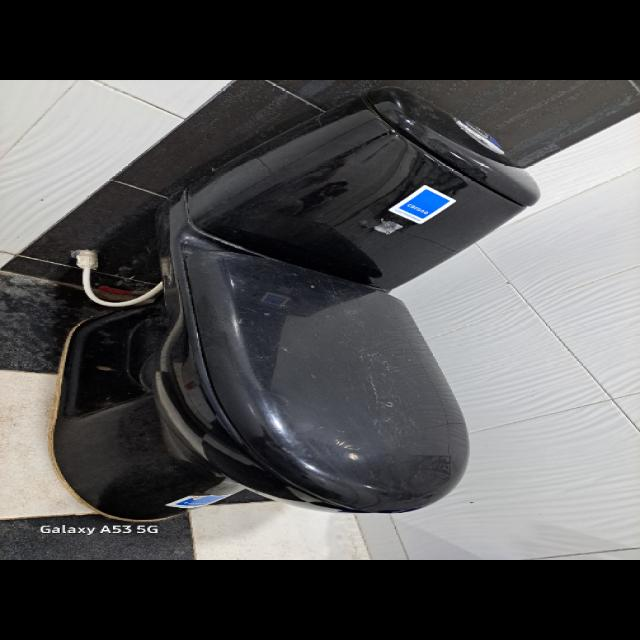toilet: (51, 84, 541, 522)
